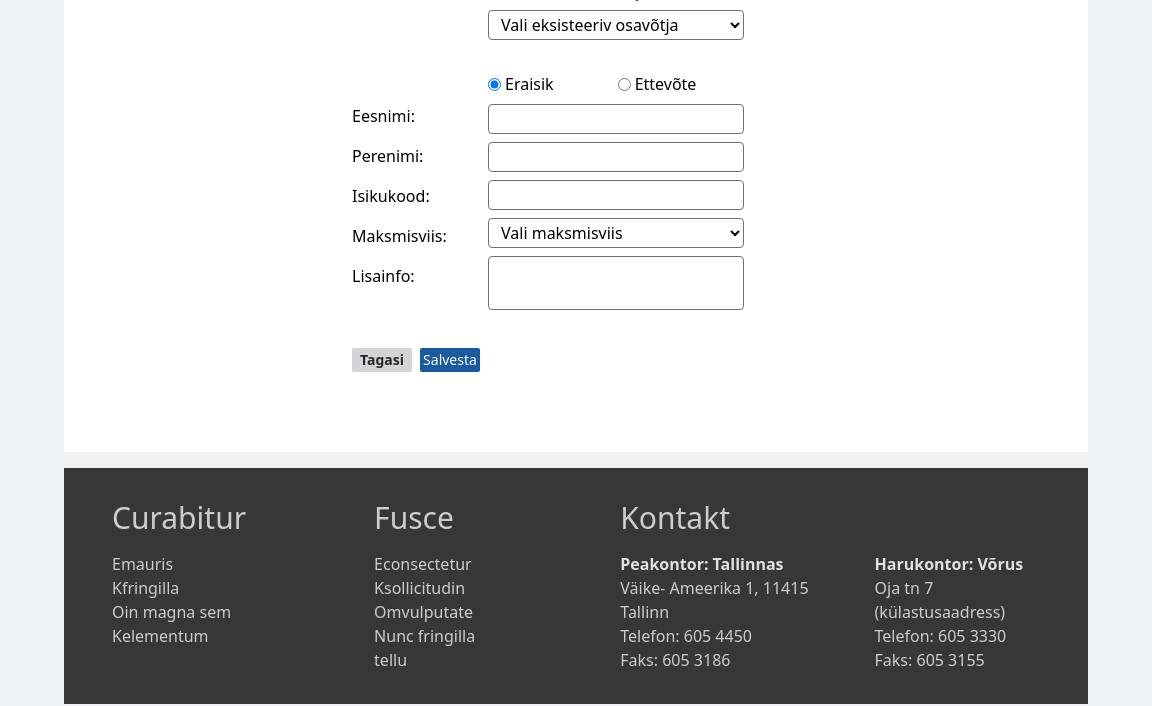
Osavõtjate vormi testid › Vormi valideerimine › näitab valideerimise vigu tühjade kohustuslike väljade puhul
(page scrolled)
Click the button "Salvesta" at (450, 360), box [420, 348, 480, 372]
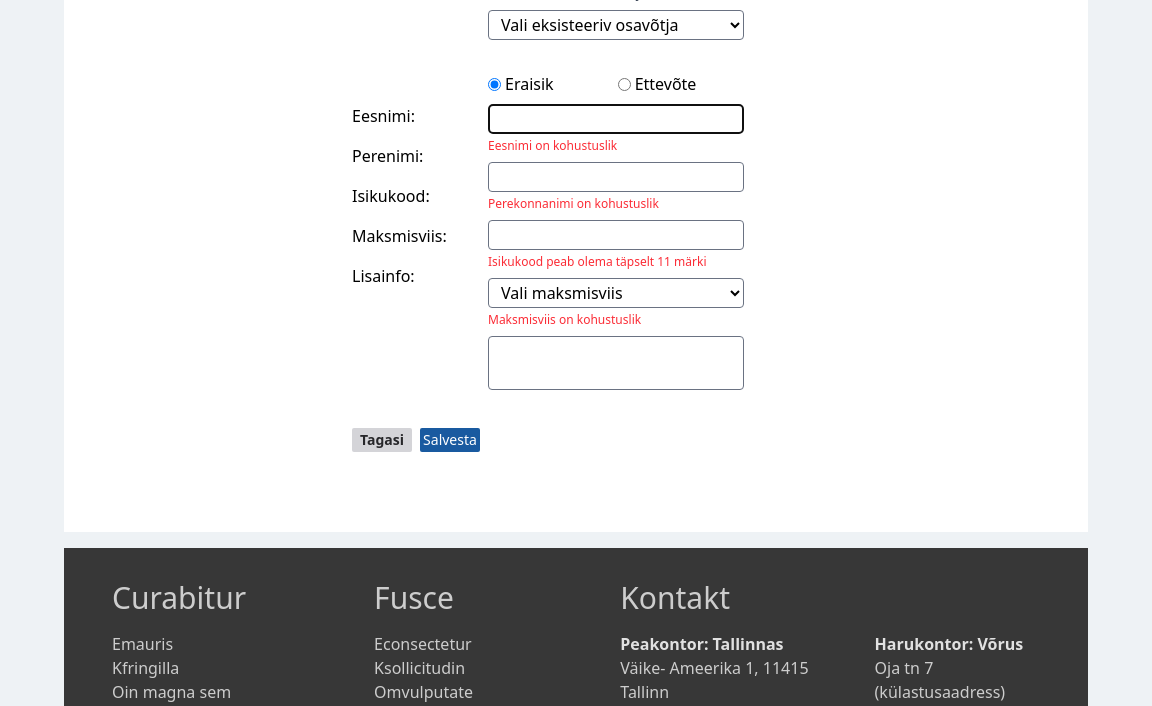
Check: the text "Eesnimi on kohustuslik" is shown, box [488, 137, 617, 154]
Check: the text "Perekonnanimi on kohustuslik" is shown, box [488, 195, 659, 212]
Check: the text "Maksmisviis on kohustuslik" is shown, box [488, 311, 641, 328]
